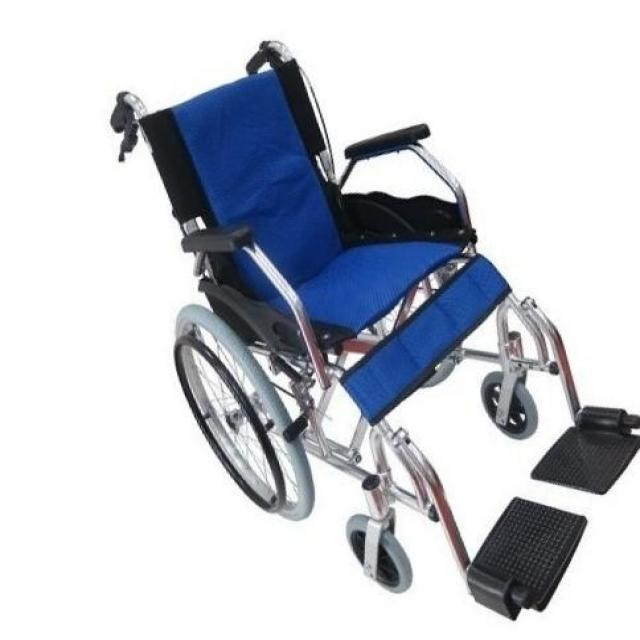wheelchair: (101, 19, 640, 639)
